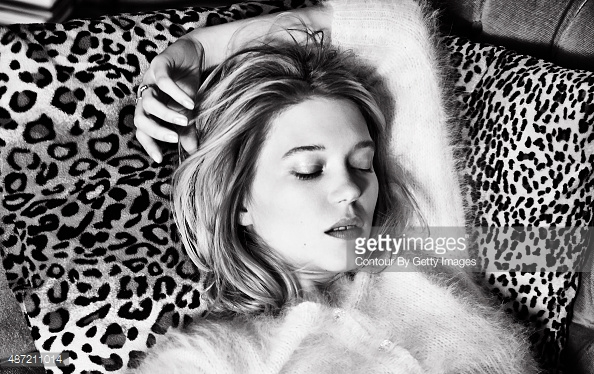deitado: (46, 47, 507, 374)
